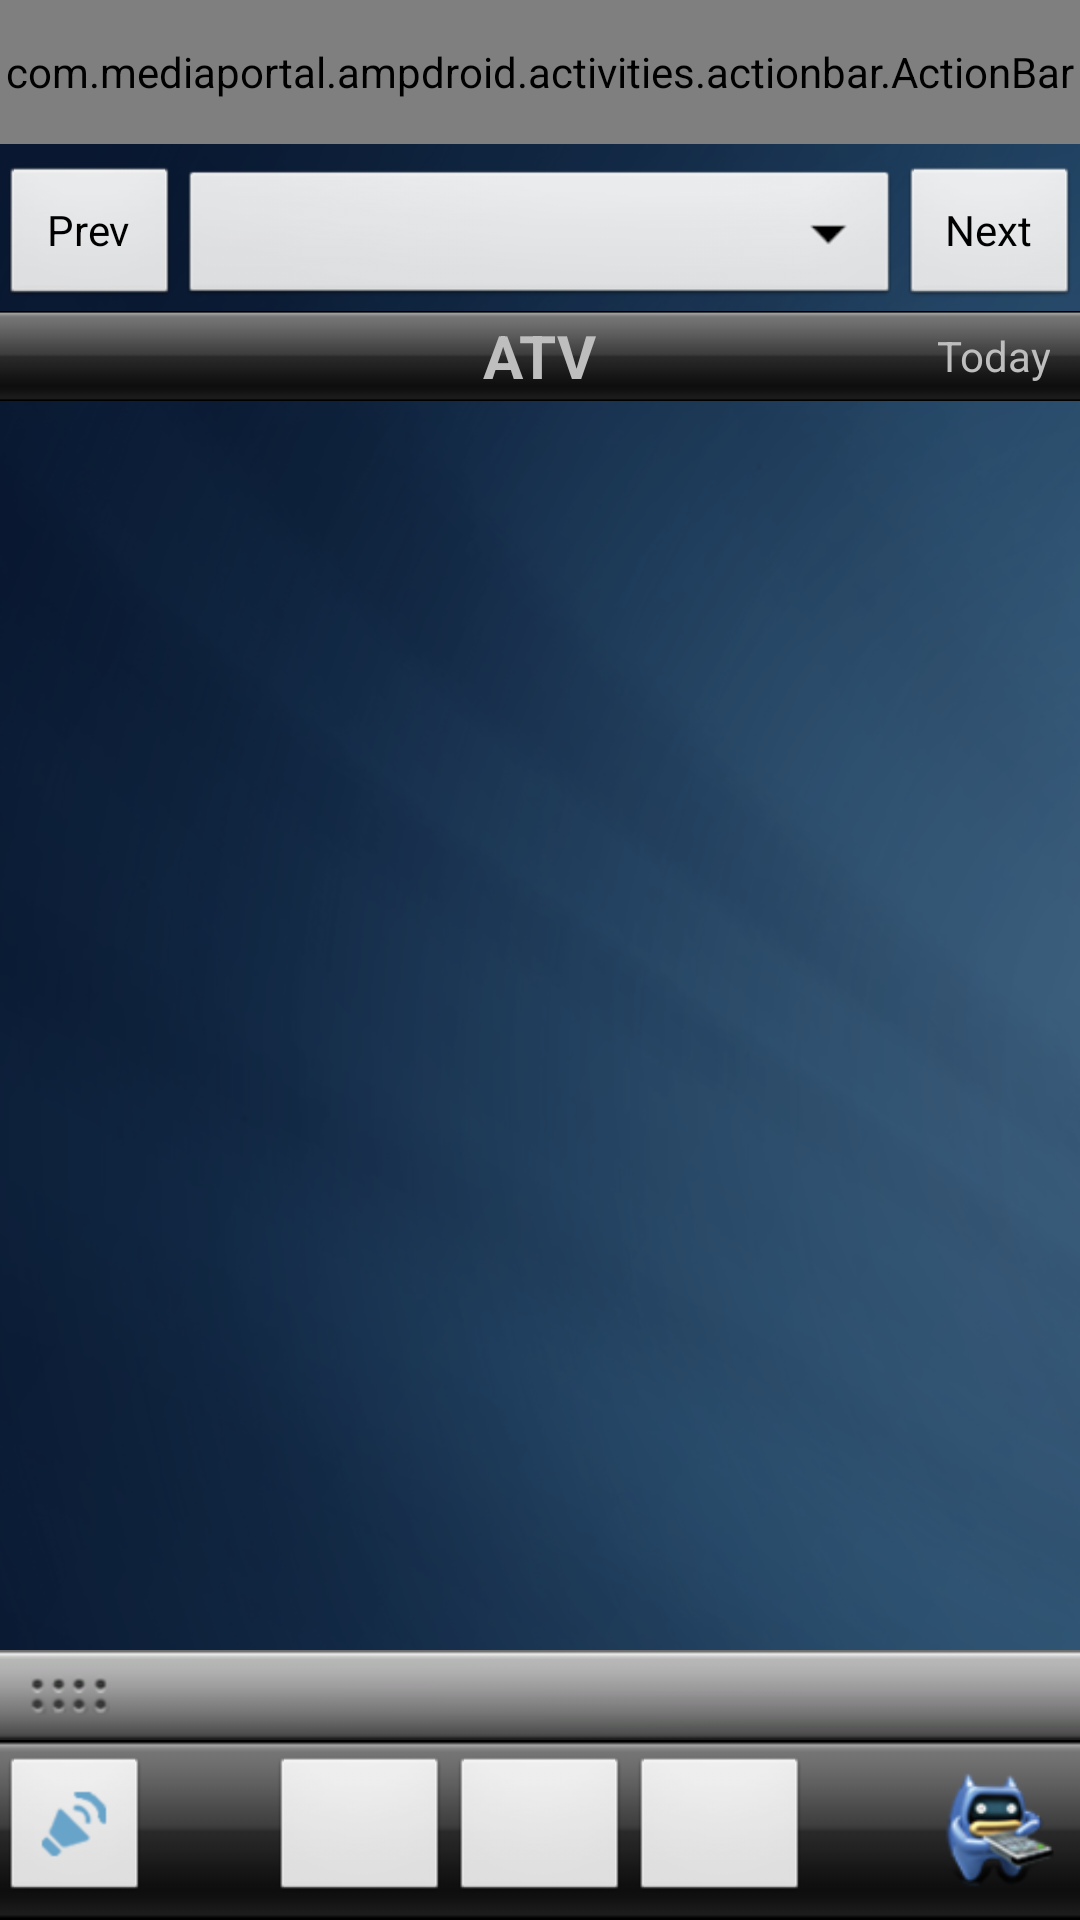

Icon click points for this 1080×1920 phone screenshot, format point (x, y):
slidingdrawer: point (70, 1695)
volume: point (75, 1830)
